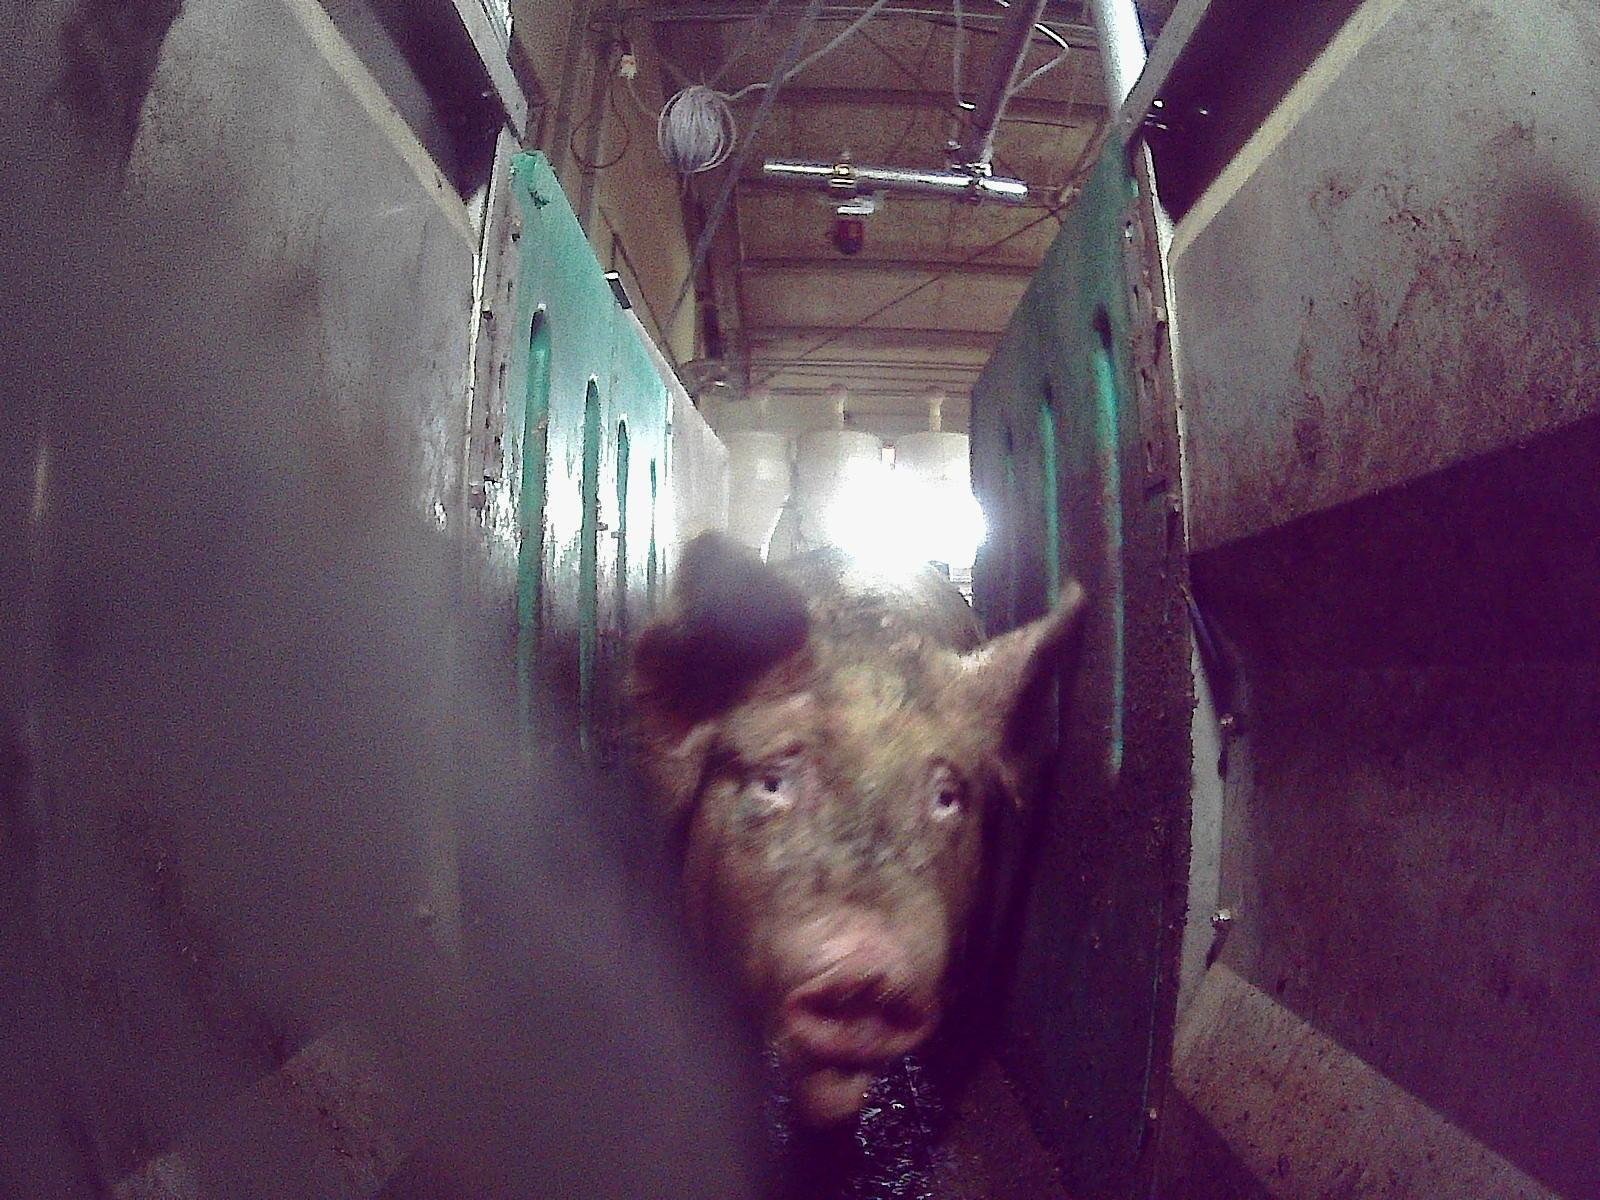Face: (676, 635, 984, 1116)
